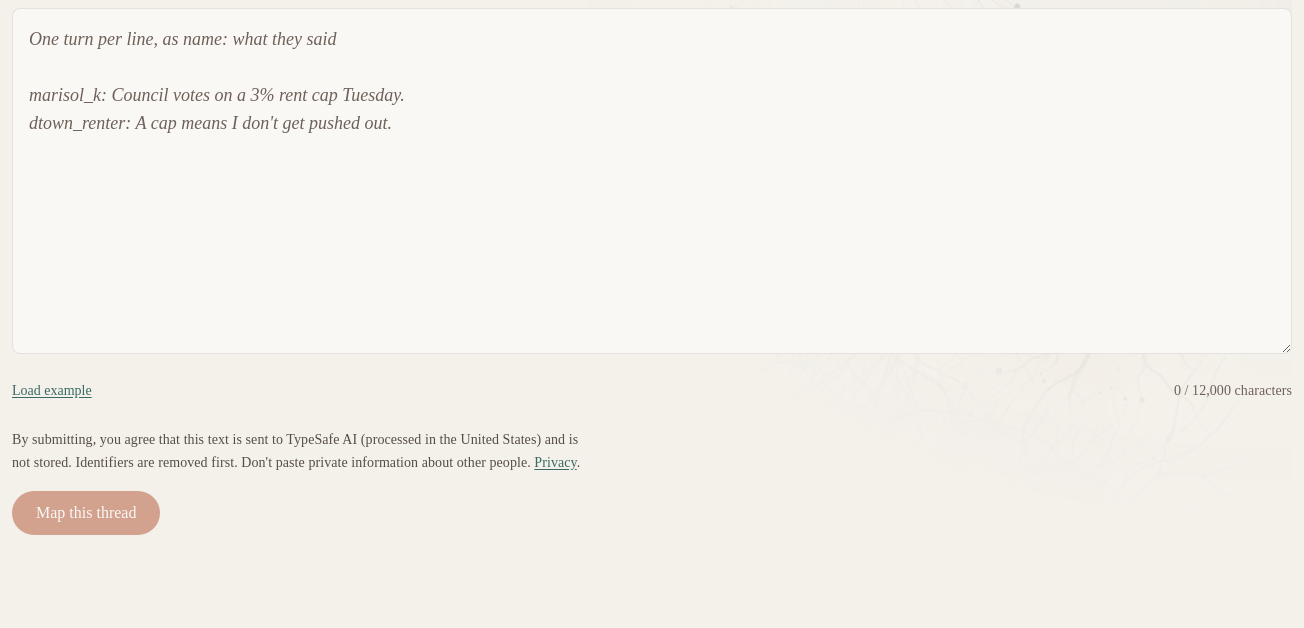
Test: MapReplyClient API boundary › rejects an incomplete successful response with ok=true
The width and height of the screenshot is (1304, 628).
Click the button "Load example". click: (52, 391)
box: [12,369,92,413]
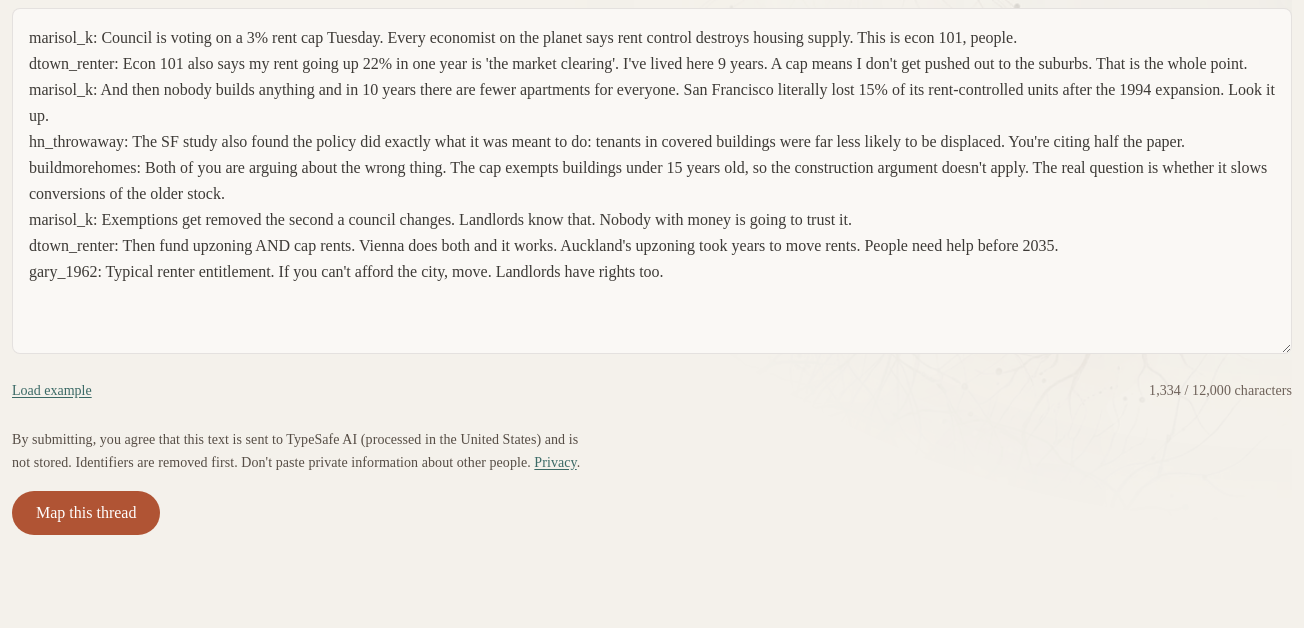
Click the button "Map this thread". click: (86, 512)
box: [12,490,160,534]
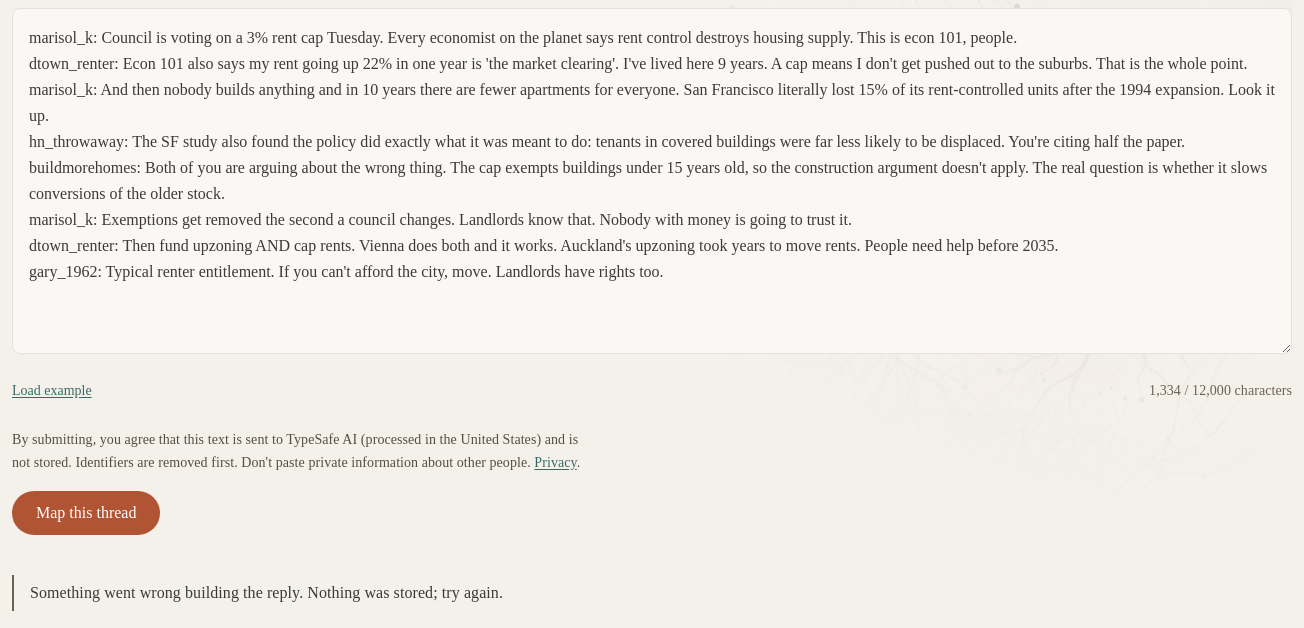
Expected: the button "Map this thread" is enabled, [12,490,160,534]
Expected: the message "Something went wrong building the reply. Nothing was stored; try again." is shown, [12,574,1292,610]
